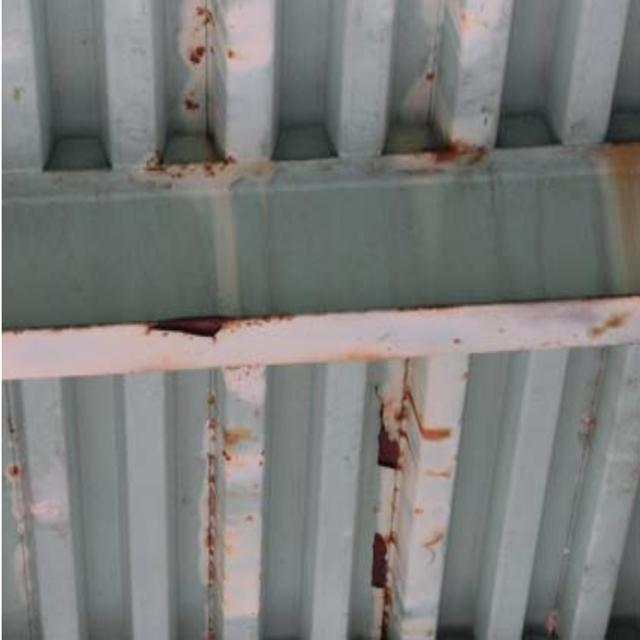corrosion: (362, 381, 467, 640), (144, 13, 254, 180), (147, 294, 319, 357), (391, 123, 503, 181)
